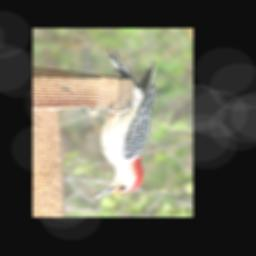Woodpecker: (90, 48, 156, 201)
